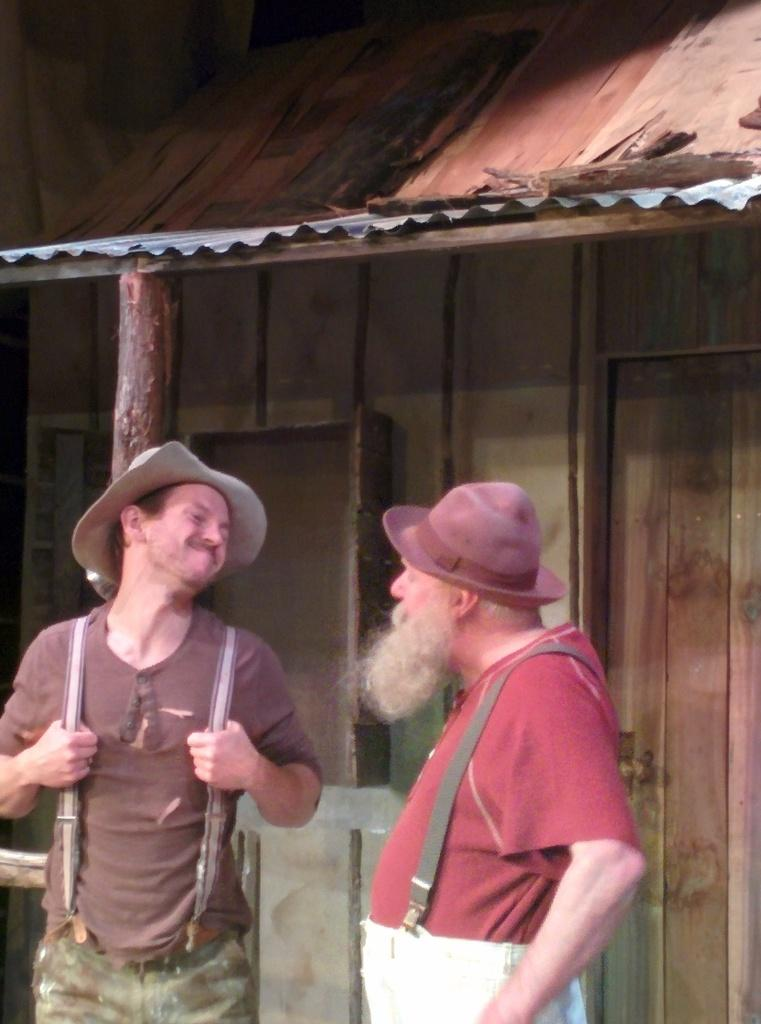Hat: (70, 437, 269, 585), (380, 480, 566, 612)
